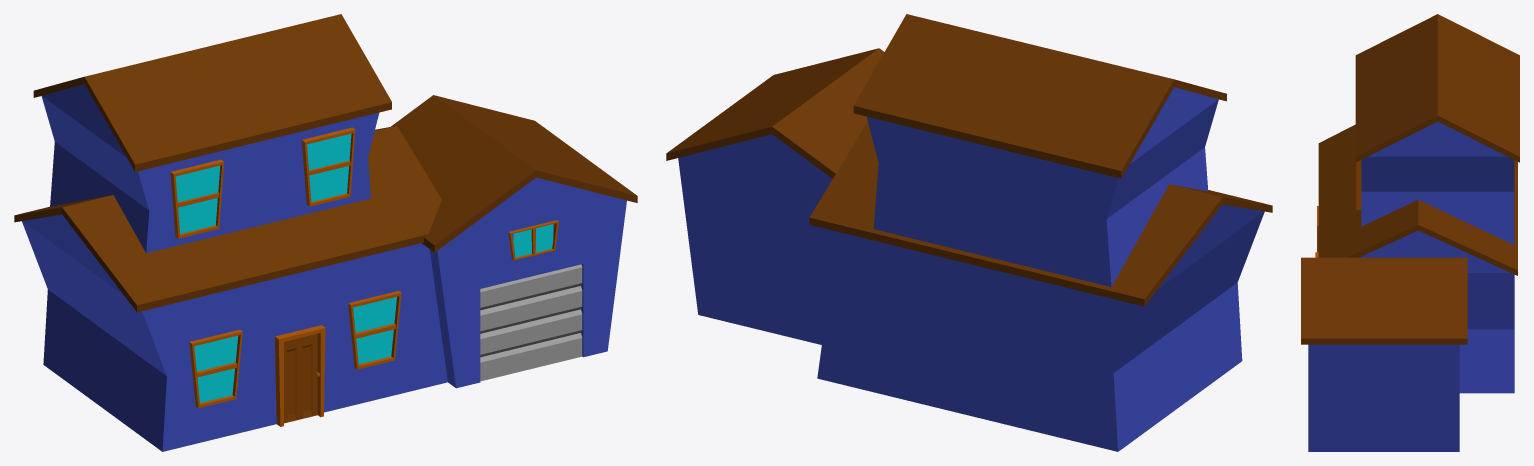
Rendered from Casa2.fbx.
The picture shows the model from 3 angles, left to right: view 1: azimuth 30°, elevation 25°; view 2: azimuth 150°, elevation 25°; view 3: azimuth 270°, elevation 25°; orthographic projection. The views are drawn at different scales.
Parts seen in each view (by area): view 1: Casa2; view 2: Casa2; view 3: Casa2.
Part boxes in pixels (x1=…): Casa2: x1=14, y1=14, x2=637, y2=451; Casa2: x1=666, y1=14, x2=1272, y2=451; Casa2: x1=1301, y1=14, x2=1519, y2=451.
Size of the model in its own units: 1364 by 840 by 634.
